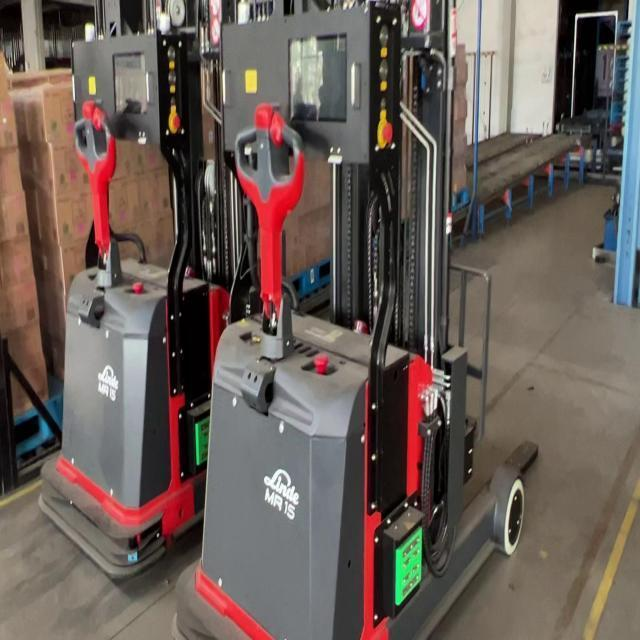forklift: (166, 0, 540, 640), (38, 0, 236, 582)
